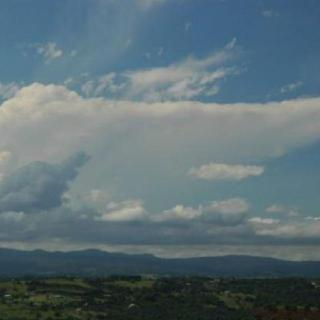Cumulonimbus: (0, 43, 320, 261)
